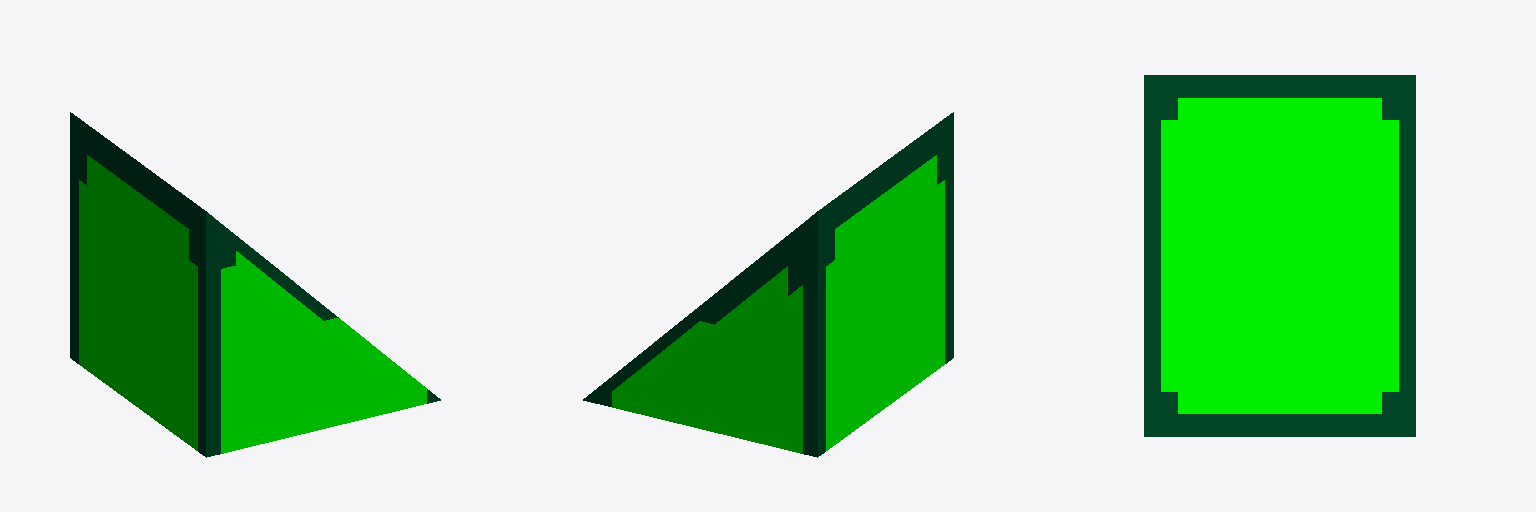
3 views of the same model, side by side, from view 1: azimuth 30°, elevation 25°; view 2: azimuth 150°, elevation 25°; view 3: azimuth 270°, elevation 25° (orthographic).
Parts seen in each view (by area): view 1: 4_green; view 2: 4_green; view 3: 4_green.
Part boxes in pixels (x1,y1,x2,y2): 4_green: (70,112,440,457); 4_green: (583,112,953,457); 4_green: (1144,75,1415,436).
Size of the model in its own units: 1 by 1 by 1.
Materials: 1 (1 with a texture image).